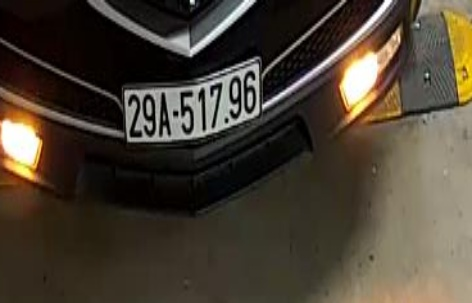plate: (108, 63, 276, 148)
